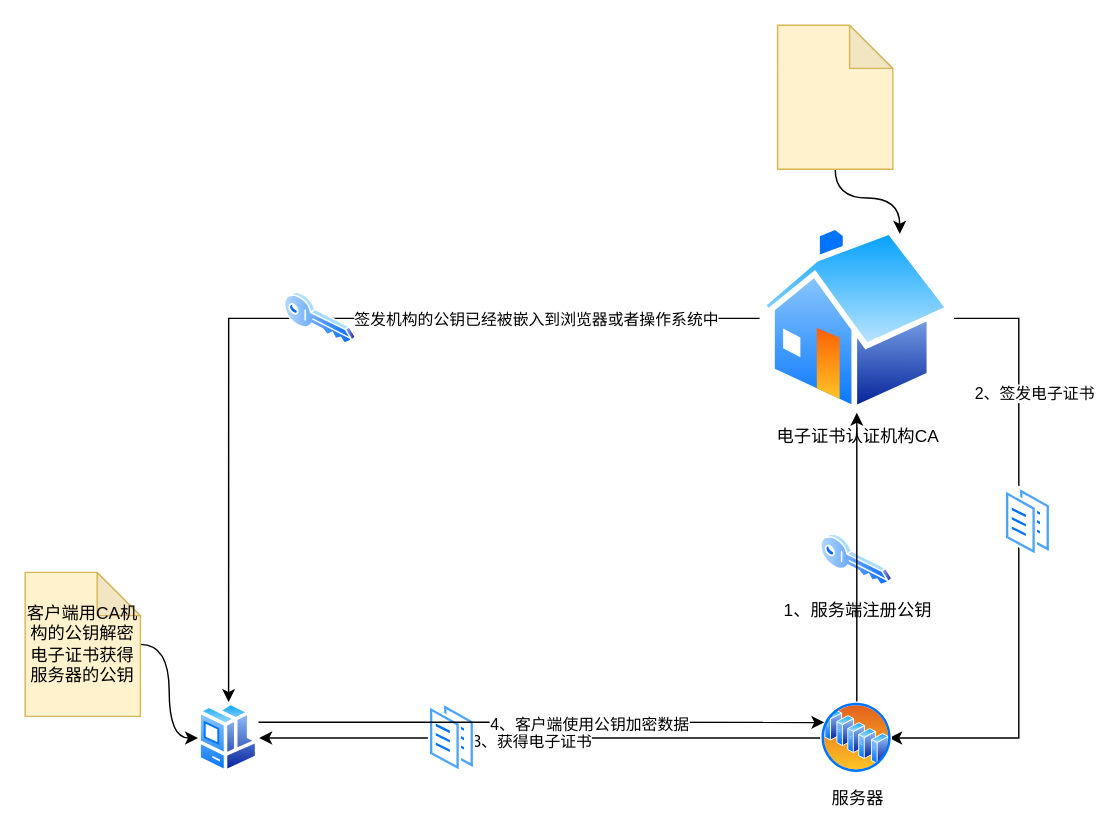
Some shapes in this 1119 by 834 pixel diagram are drawn without their labels. The shapes that lost their labels are listed below. From the top down, each one's centre as x and y in pixels, then its label:
[834,96]: 签发机构用私钥加密服务器的公钥
[227,737]: 客户端
